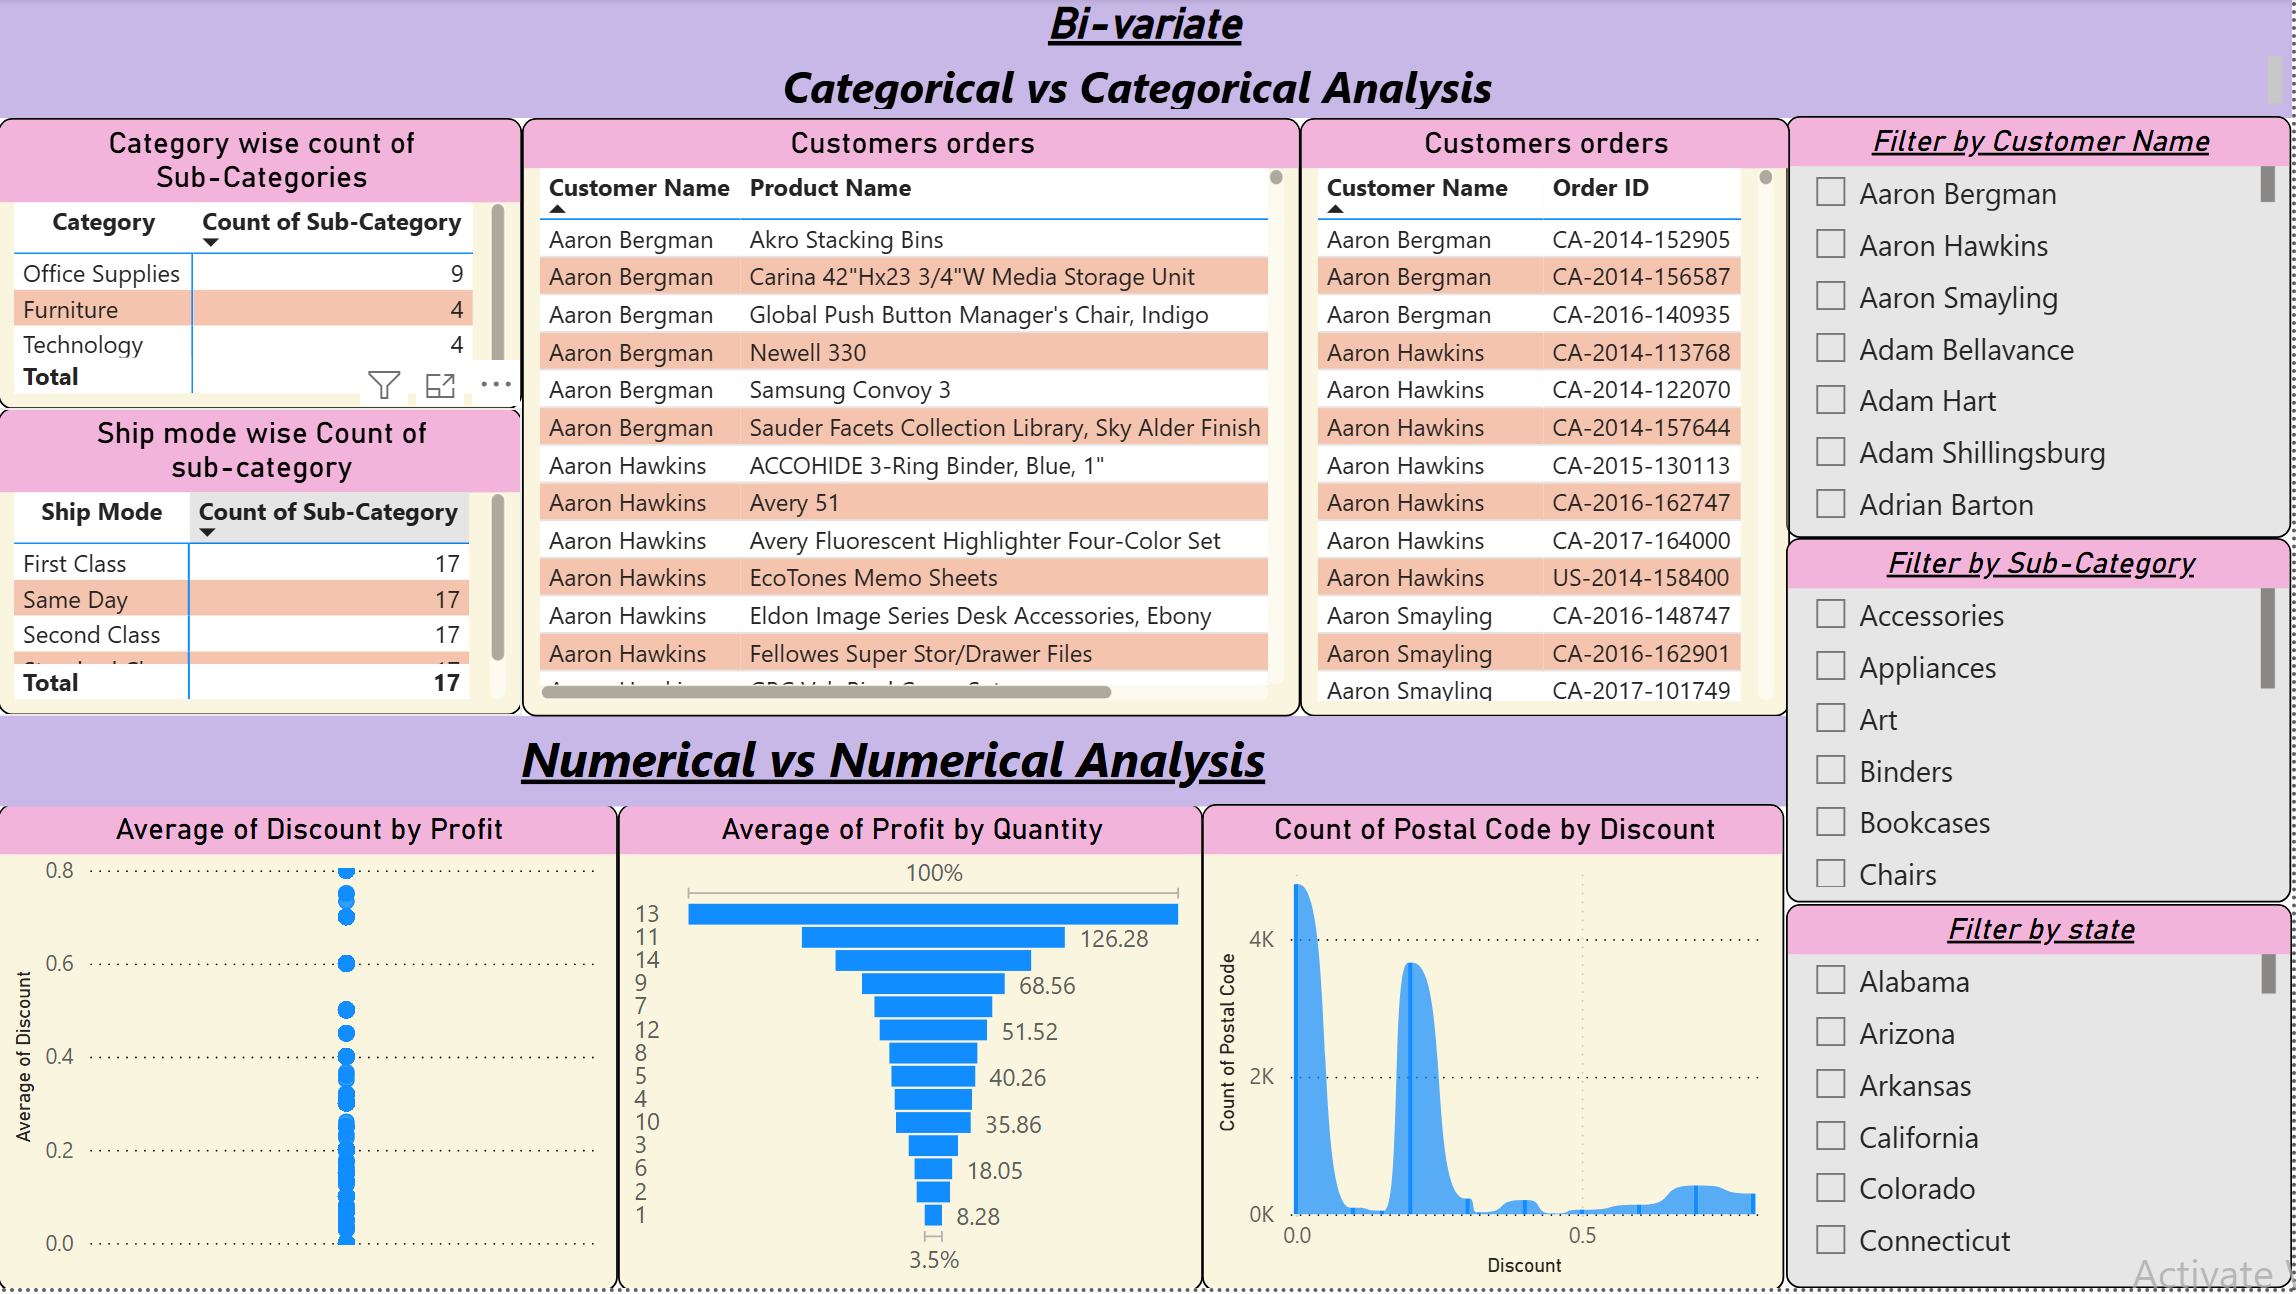

Layout of this report page (visuals, bound fields, positions):
{"tool":"powerbi","page":{"name":"Bi-variate","canvas":[1280,720],"ordinal":3},"visuals":[{"type":"textbox","title":"Bi-variate","box":[0,0,1280,66.5],"z":0},{"type":"pivotTable","title":"Category wise count of Sub-Categories","fields":{"Rows":["Superstore.Category"],"Values":["Superstore.Sub-Category"]},"box":[0,66.5,292.7,162.6],"z":1000},{"type":"scatterChart","fields":{"Category":["Superstore.Profit"],"Y":["Superstore.Discount"]},"box":[0,449.3,345.9,272],"z":2000},{"type":"funnel","fields":{"Category":["Superstore.Quantity"],"Y":["Superstore.Profit"]},"box":[345.9,449.3,326.7,272],"z":3000},{"type":"slicer","title":"Filter by state","fields":{"Values":["Superstore.State"]},"box":[997.7,505.7,282.3,214.3],"z":5000},{"type":"slicer","title":"Filter by Customer Name","fields":{"Values":["Superstore.Customer Name"]},"box":[998.1,66.2,281.9,235.7],"z":6000},{"type":"tableEx","title":"Customers orders","fields":{"Values":["Superstore.Customer Name","Superstore.Order ID"]},"box":[727.2,66.5,273.4,334],"z":7000},{"type":"textbox","box":[0,400.6,999.2,50.3],"z":8000},{"type":"ribbonChart","fields":{"Category":["Superstore.Discount"],"Y":["Superstore.Postal Code"]},"box":[672.5,449.3,325.2,272],"z":9000},{"type":"pivotTable","title":"Ship mode wise Count of sub-category","fields":{"Rows":["Superstore.Ship Mode"],"Values":["Superstore.Sub-Category"]},"box":[0,229.1,292.7,171.5],"z":10000},{"type":"tableEx","title":"Customers orders","fields":{"Values":["Superstore.Customer Name","Superstore.Product Name"]},"box":[292.7,66.5,434.5,334],"z":11000},{"type":"slicer","title":"Filter by Sub-Category","fields":{"Values":["Superstore.Sub-Category"]},"box":[998.1,301.9,281.9,203.3],"z":11001}]}

Visuals, with their boxes on the page's 1280x720 design canvas (x1, y1, x2, y2). These are canvas units, not pixel positions in the 2296x1294 screenshot, which may show the page scaled, cropped or inside an application window:
"Bi-variate" textbox: [x1=0, y1=0, x2=1280, y2=66]
"Category wise count of Sub-Categories" pivotTable: [x1=0, y1=66, x2=293, y2=229]
scatterChart - Superstore.Profit x Superstore.Discount: [x1=0, y1=449, x2=346, y2=721]
funnel - Superstore.Quantity x Superstore.Profit: [x1=346, y1=449, x2=673, y2=721]
"Filter by state" slicer: [x1=998, y1=506, x2=1280, y2=720]
"Filter by Customer Name" slicer: [x1=998, y1=66, x2=1280, y2=302]
"Customers orders" tableEx: [x1=727, y1=66, x2=1001, y2=400]
textbox: [x1=0, y1=401, x2=999, y2=451]
ribbonChart - Superstore.Discount x Superstore.Postal Code: [x1=672, y1=449, x2=998, y2=721]
"Ship mode wise Count of sub-category" pivotTable: [x1=0, y1=229, x2=293, y2=401]
"Customers orders" tableEx: [x1=293, y1=66, x2=727, y2=400]
"Filter by Sub-Category" slicer: [x1=998, y1=302, x2=1280, y2=505]
